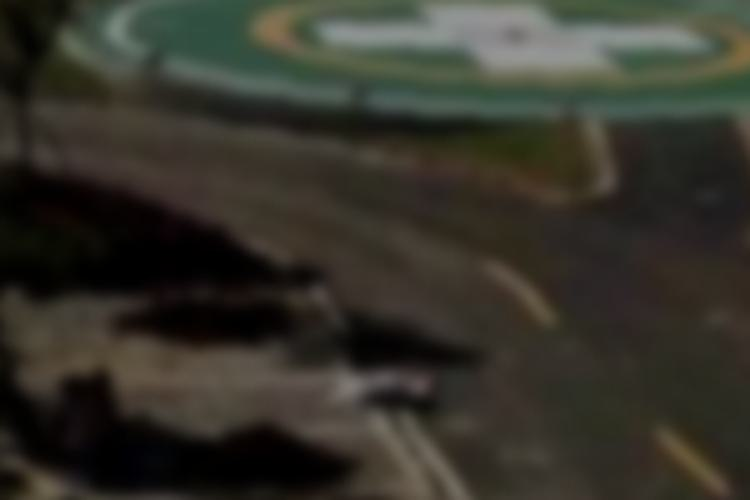Apron: (242, 1, 750, 93)
